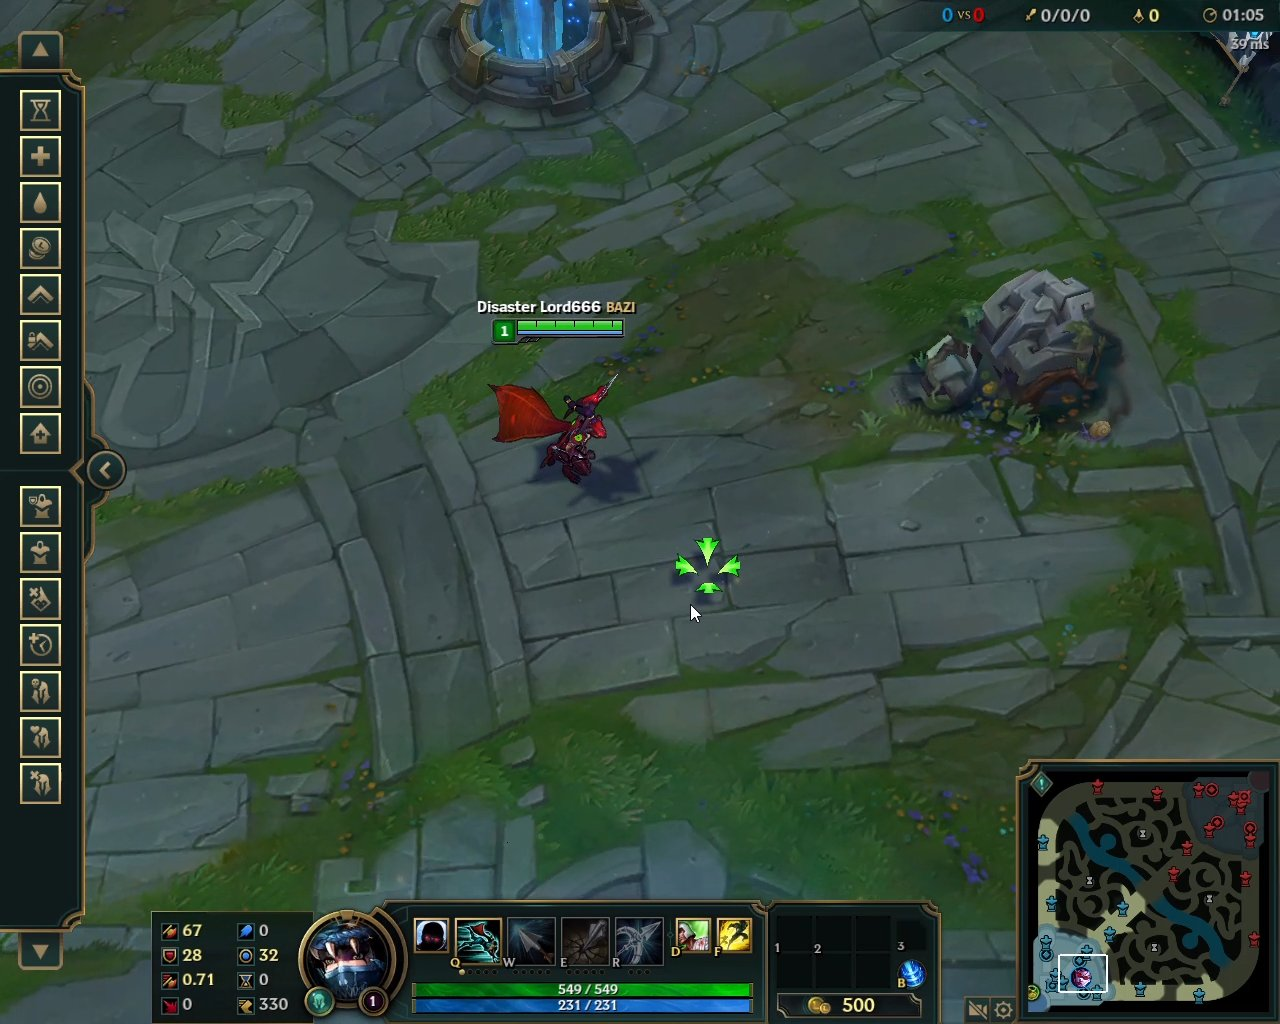Vayne: (487, 370, 624, 488)
